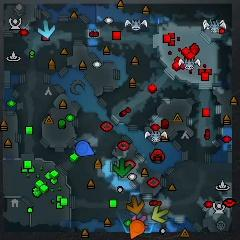p1: (75, 141, 94, 157)
p5: (129, 220, 144, 239)
x1: (132, 214, 148, 229)
x2: (151, 205, 169, 223)
x3: (38, 20, 55, 38)
x4: (112, 158, 130, 178)
x5: (126, 195, 144, 214)
